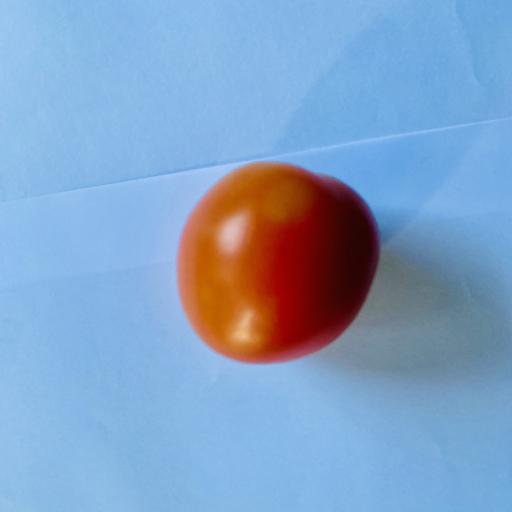ripe: (177, 163, 379, 363)
